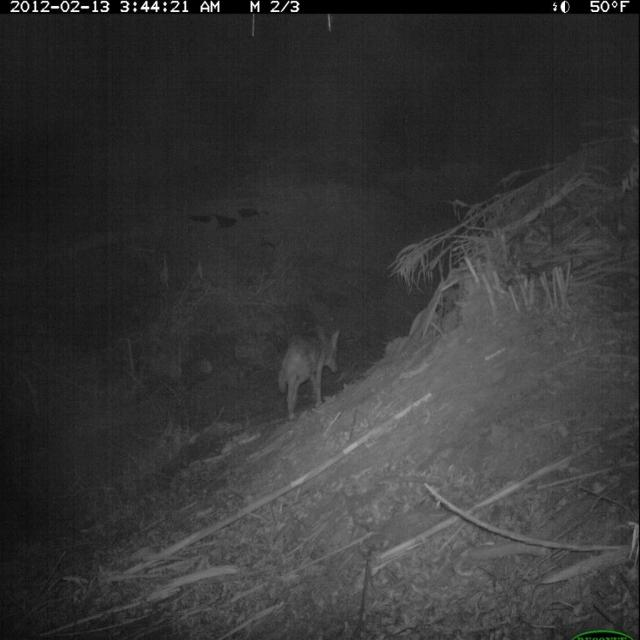coyote: (277, 321, 345, 426)
